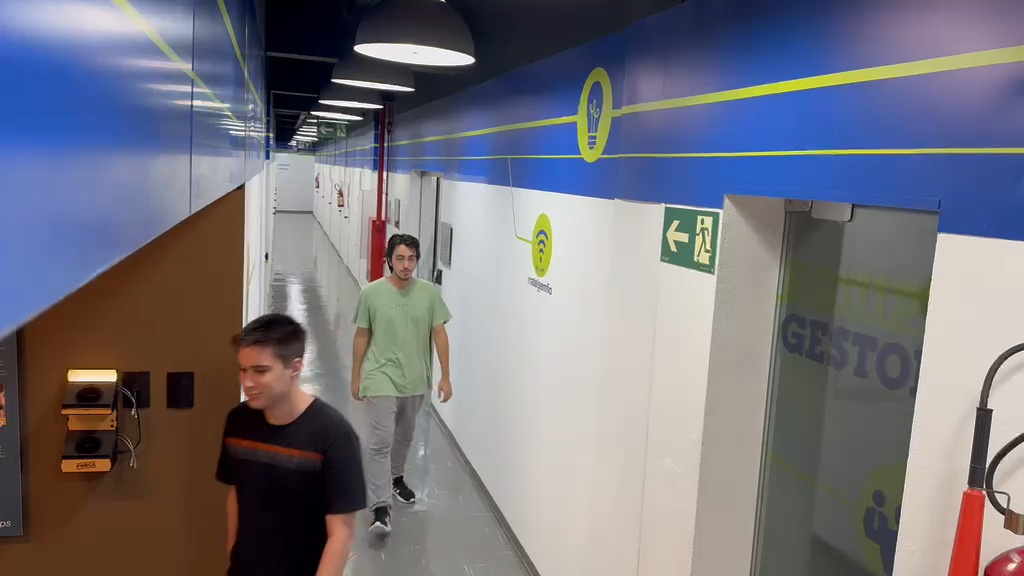person: (215, 314, 368, 574), (350, 233, 453, 523)
